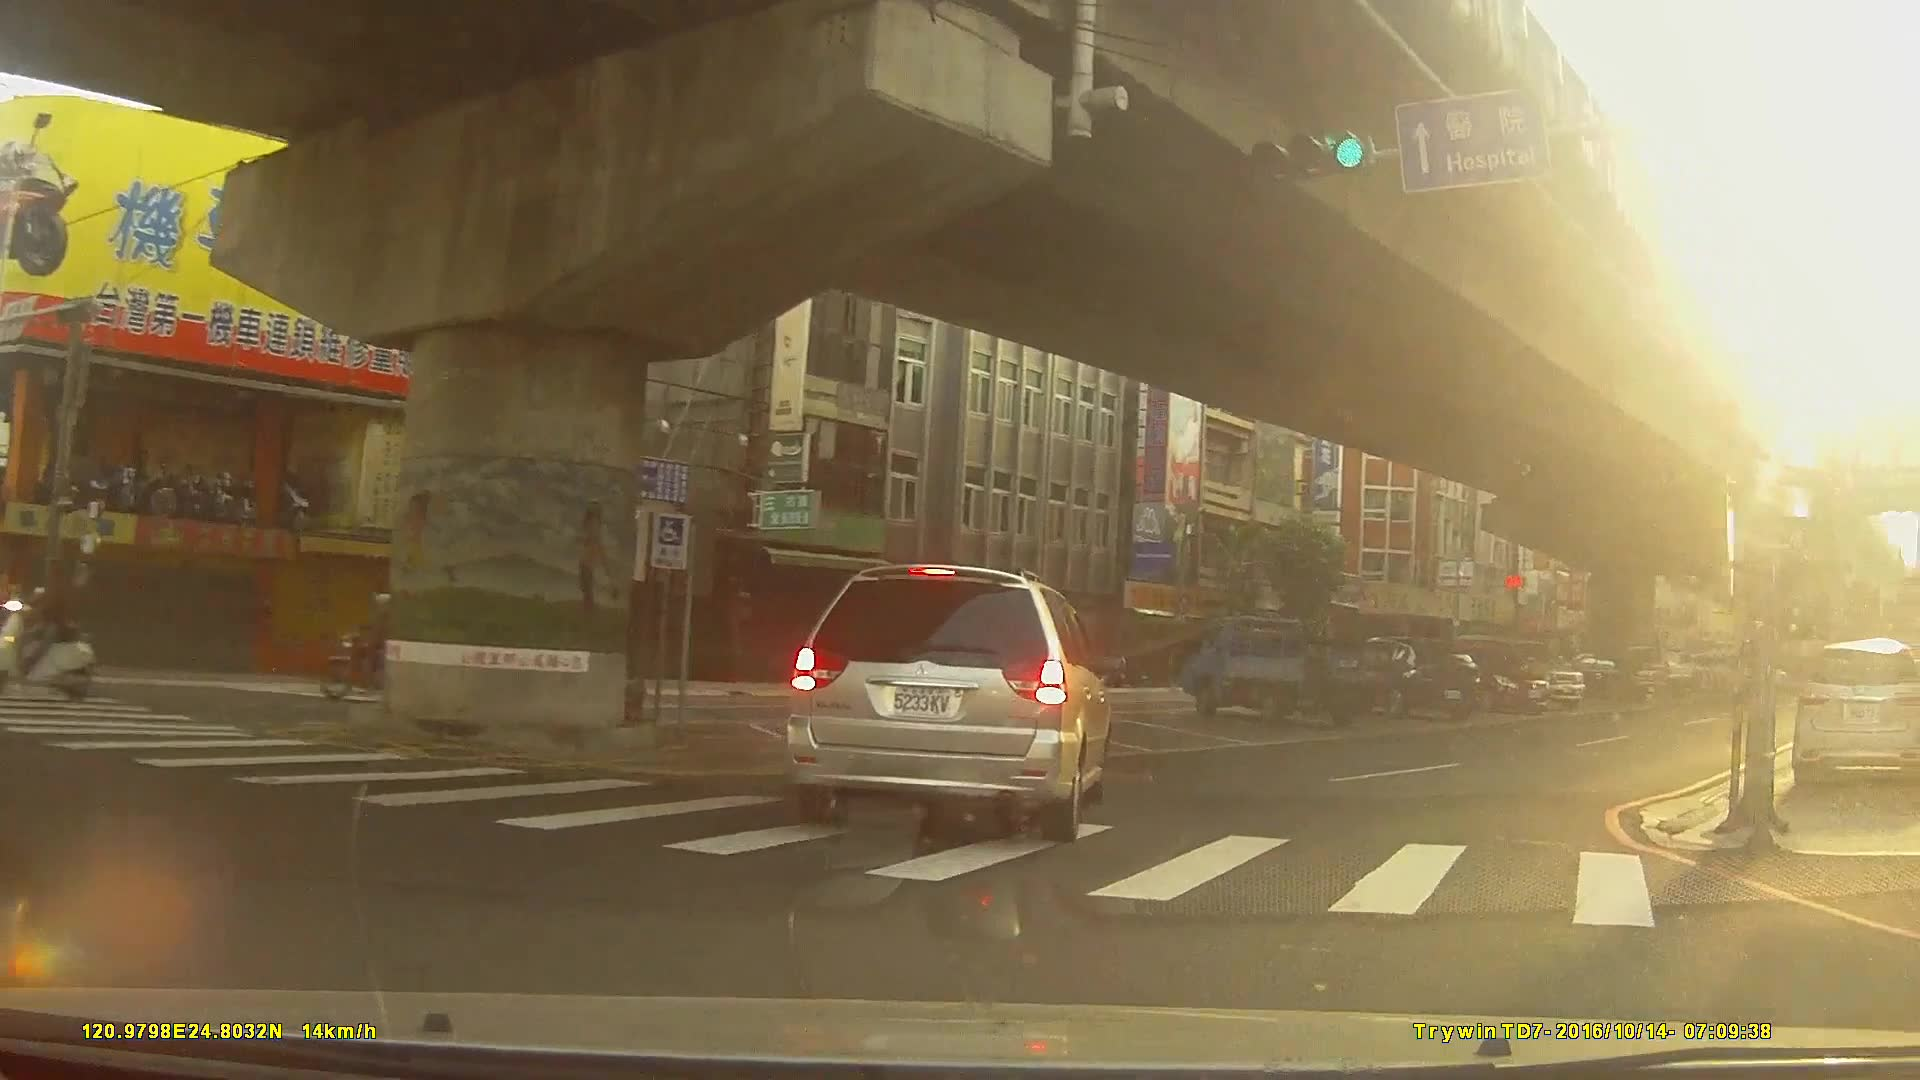rider: (4, 565, 102, 705)
vehicle: (782, 561, 1112, 844), (1176, 612, 1391, 726), (1792, 637, 1917, 791), (1343, 633, 1482, 718), (1423, 642, 1554, 713), (1547, 655, 1636, 702)
